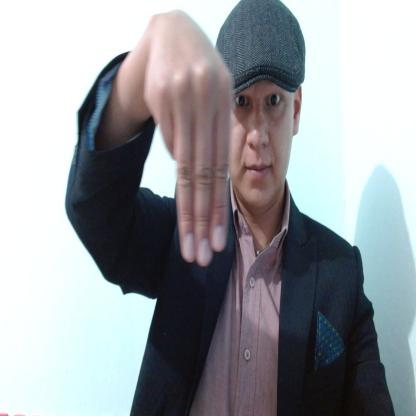M: (144, 13, 230, 262)
